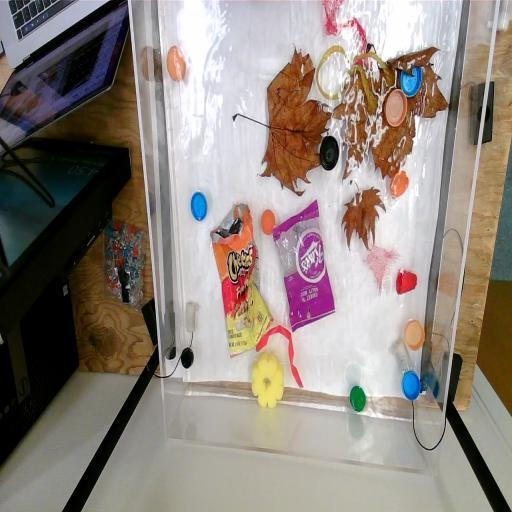Bottle Cap: (165, 42, 188, 88), (383, 89, 408, 129), (400, 62, 423, 98), (318, 134, 339, 170), (404, 317, 425, 352), (402, 367, 420, 404), (390, 169, 410, 202), (190, 189, 208, 224), (350, 380, 367, 416), (260, 208, 276, 239), (180, 347, 198, 371)
Cone Cap: (395, 268, 423, 300)
Leaf: (338, 39, 447, 179), (233, 49, 329, 195), (342, 178, 382, 248)
Netting: (320, 0, 369, 53), (362, 242, 402, 296)
Plastic Bag: (210, 201, 272, 357), (274, 202, 337, 330)
Plastic Strand: (256, 325, 306, 388), (314, 41, 366, 98)
Sponge: (249, 351, 286, 411)
